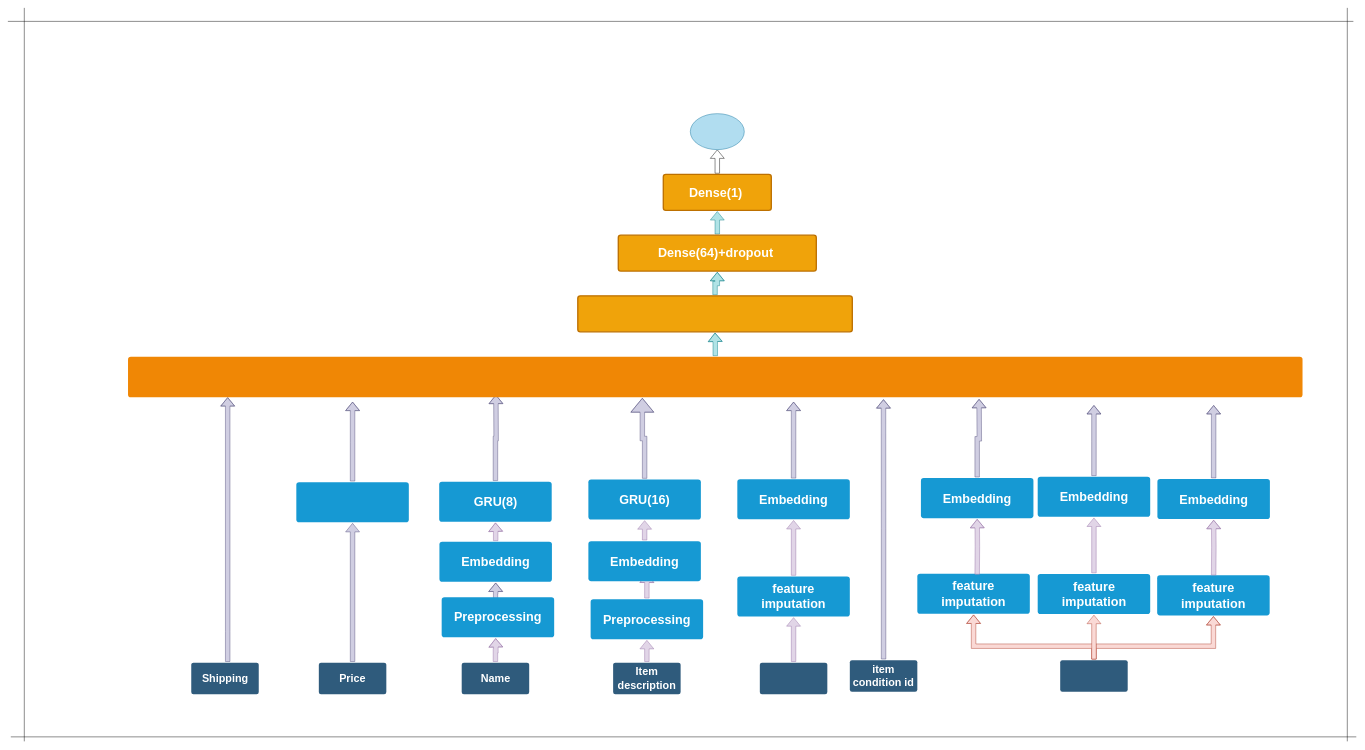
Image size: 1365x750. Some labels were removed from this diagram. Each missing label, with the centre of its shape:
"Brand name" belongs at point 793,678.
"Category" belongs at point 1093,675.
"Dense(128)+dropout" belongs at point 715,313.
"Flatten" belongs at point 715,377.
"log(price+1) => minmax scaling" belongs at point 352,502.
"output" belongs at point 717,131.
